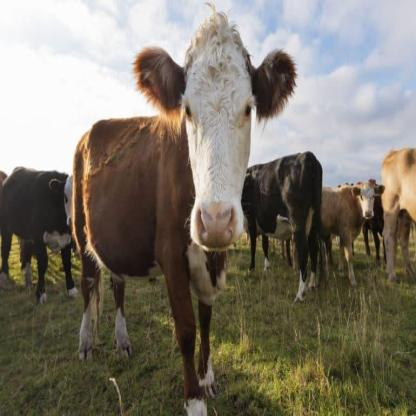cow: (73, 23, 295, 416), (242, 152, 322, 303), (0, 167, 78, 302), (323, 181, 385, 287), (383, 147, 416, 284)
